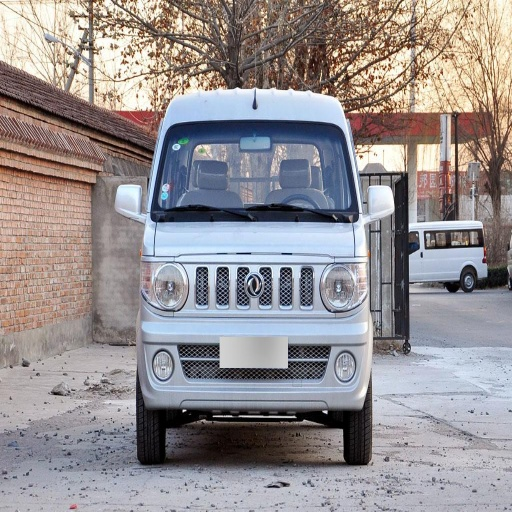front_bumper: (141, 255, 364, 411)
hood: (153, 221, 368, 255)
tailgate: (318, 261, 363, 313)
